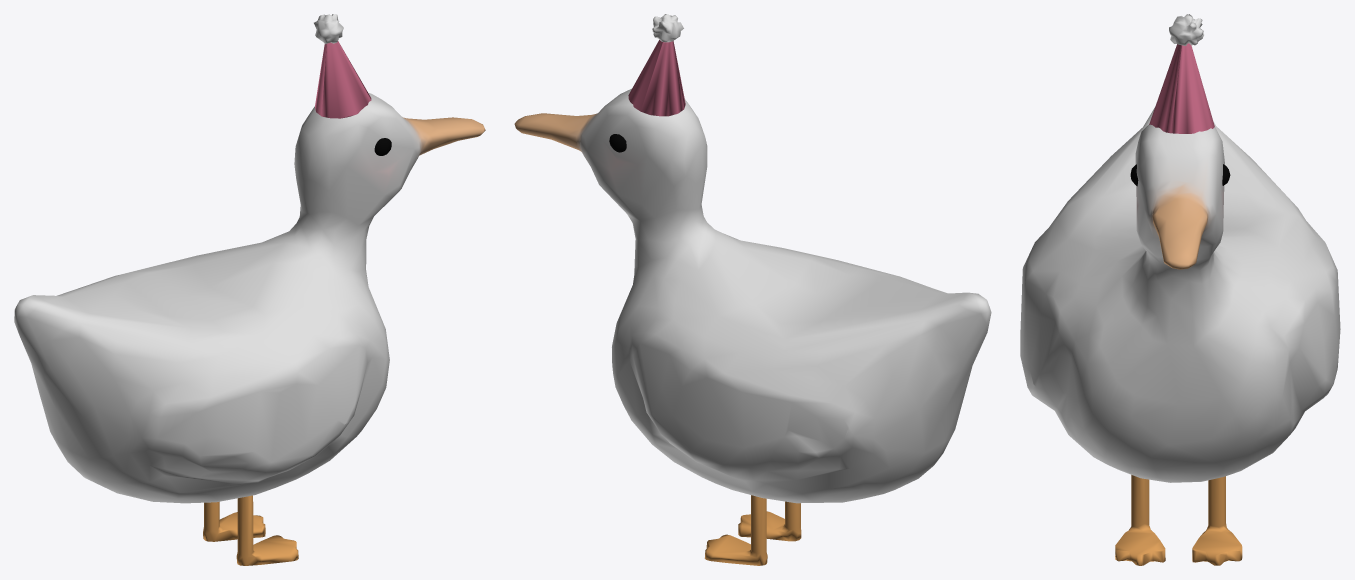
File: Duck.glb
3 views of the same model, side by side, from view 1: azimuth 30°, elevation 25°; view 2: azimuth 150°, elevation 25°; view 3: azimuth 270°, elevation 25° (orthographic). The views are drawn at different scales.
Visible parts, largest first — view 1: Sphere; view 2: Sphere; view 3: Sphere.
Boxes of the visible parts, bbox=[...] form: Sphere: bbox=[14, 14, 485, 565]; Sphere: bbox=[514, 14, 991, 565]; Sphere: bbox=[1020, 14, 1340, 565].
Bounding box in the file's own units: 1.69 × 1.75 × 0.8737.
